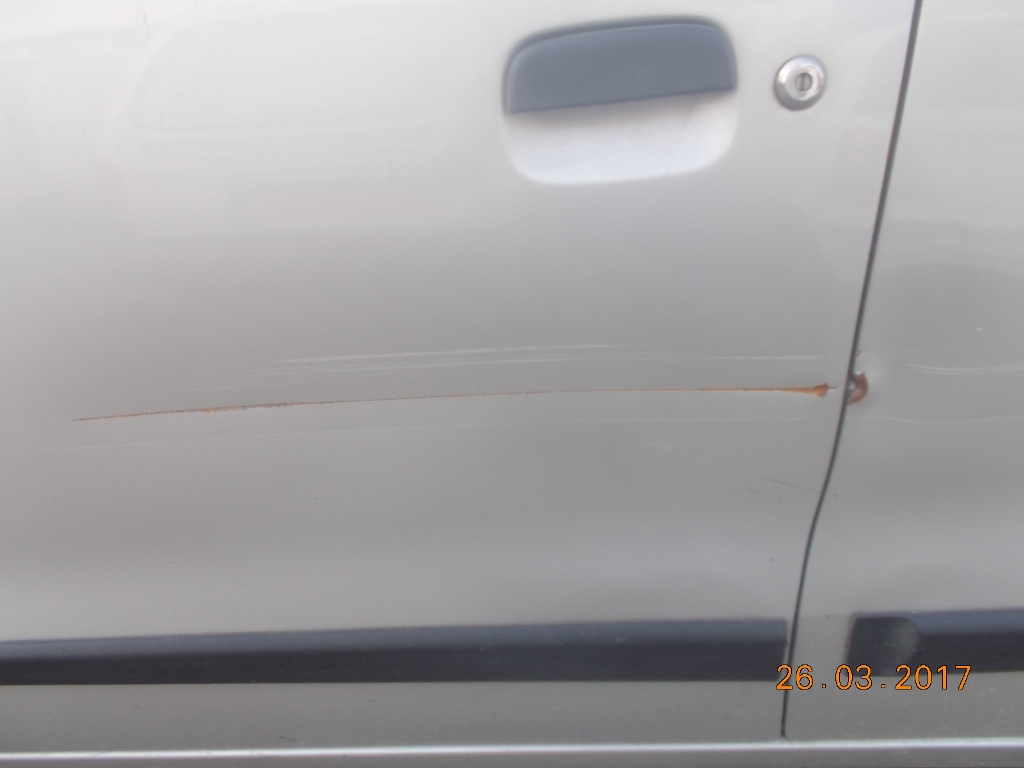Scratch_or_spot: (69, 382, 600, 410), (609, 367, 825, 409)
